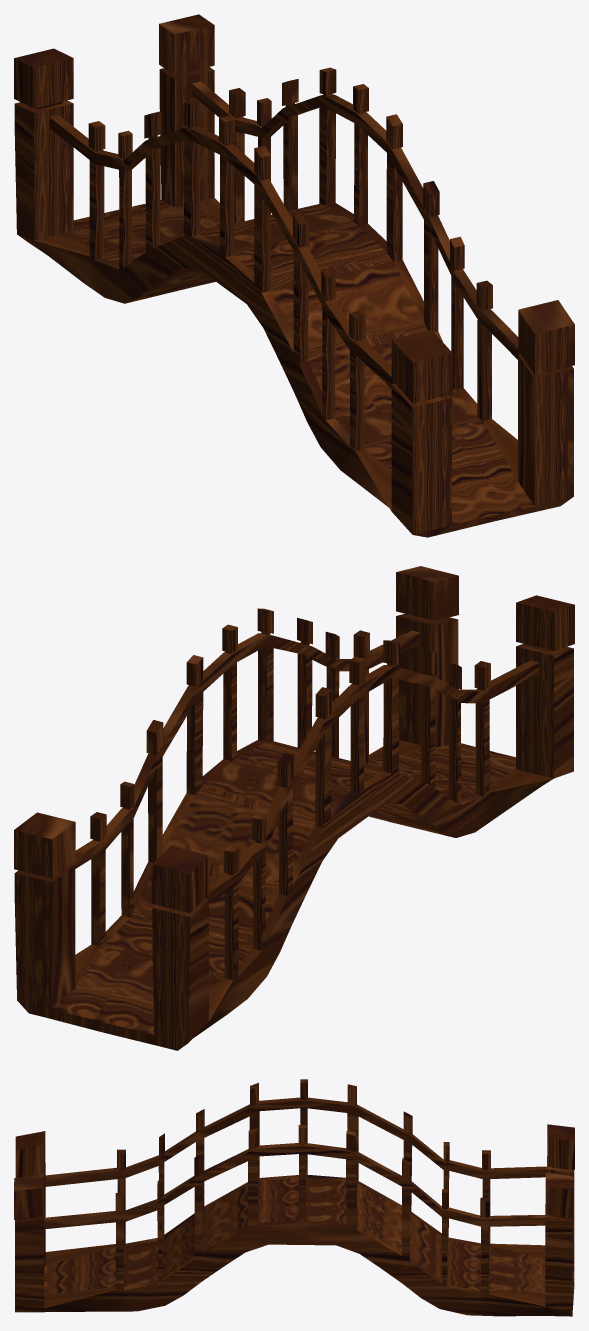
Rendered from bridge.glb.
3 views of the same model, one above another, from view 1: azimuth 30°, elevation 25°; view 2: azimuth 150°, elevation 25°; view 3: azimuth 270°, elevation 25° (orthographic). The views are drawn at different scales.
Parts seen in each view (by area): view 1: pCube1; view 2: pCube1; view 3: pCube1.
Boxes of the visible parts, x1,y1,x2,y2 form: pCube1: (14, 14, 574, 537); pCube1: (14, 566, 574, 1050); pCube1: (14, 1079, 574, 1316).
Bounding box in the file's own units: 8.17 × 11.36 × 30.79.
Materials: 1 (1 with a texture image).
